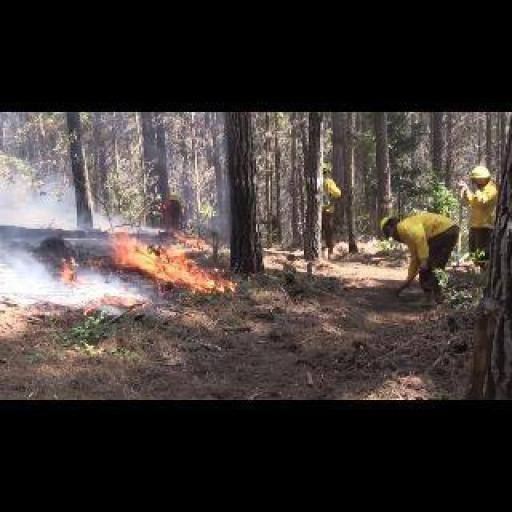smoke: (108, 230, 238, 293), (82, 298, 140, 315), (171, 230, 208, 250), (56, 266, 75, 286)
